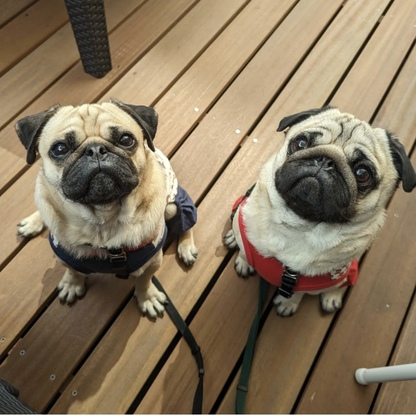Pug: (13, 96, 203, 327), (218, 102, 416, 320)
